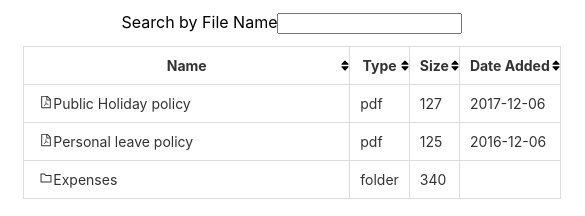
Scenario: Documents › Filters data based on search › filter by child document name
Type "Fuel" into the field labelled "Search by File Name" at (370, 24), box [278,13,462,34]
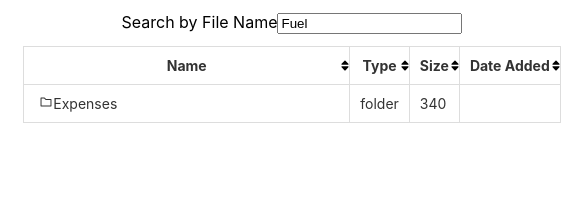
Click the text "Expenses" at (187, 104), box [24,84,350,122]
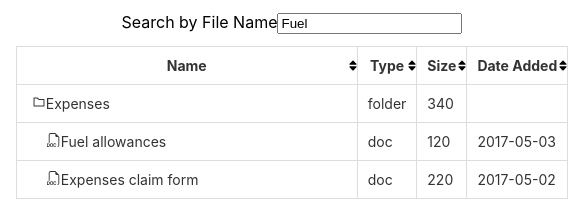
Check: the text "Expenses" is shown, box [16,84,357,122]
Check: the text "Fuel allowances" is shown, box [16,122,357,160]
